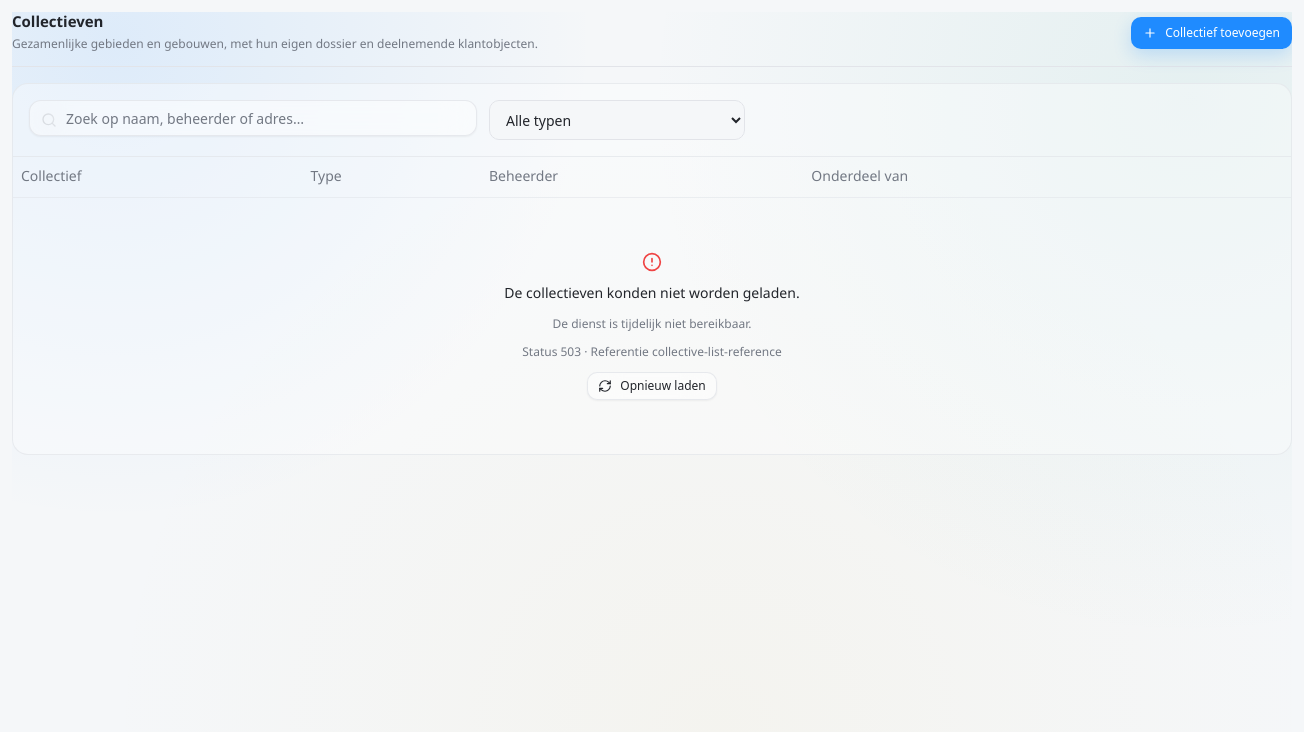
Scenario: collectiefkaart › toont een herkenbare overzichtsfout in de tabel zonder een lege lijst voor te wenden
Expected: the message shows "De collectieven konden niet worden geladen.", [504,284,800,302]
Expected: the message shows "De dienst is tijdelijk niet bereikbaar.", [552,314,751,332]
Click the button "Opnieuw laden".
click(652, 386)  # box [587,372,717,400]
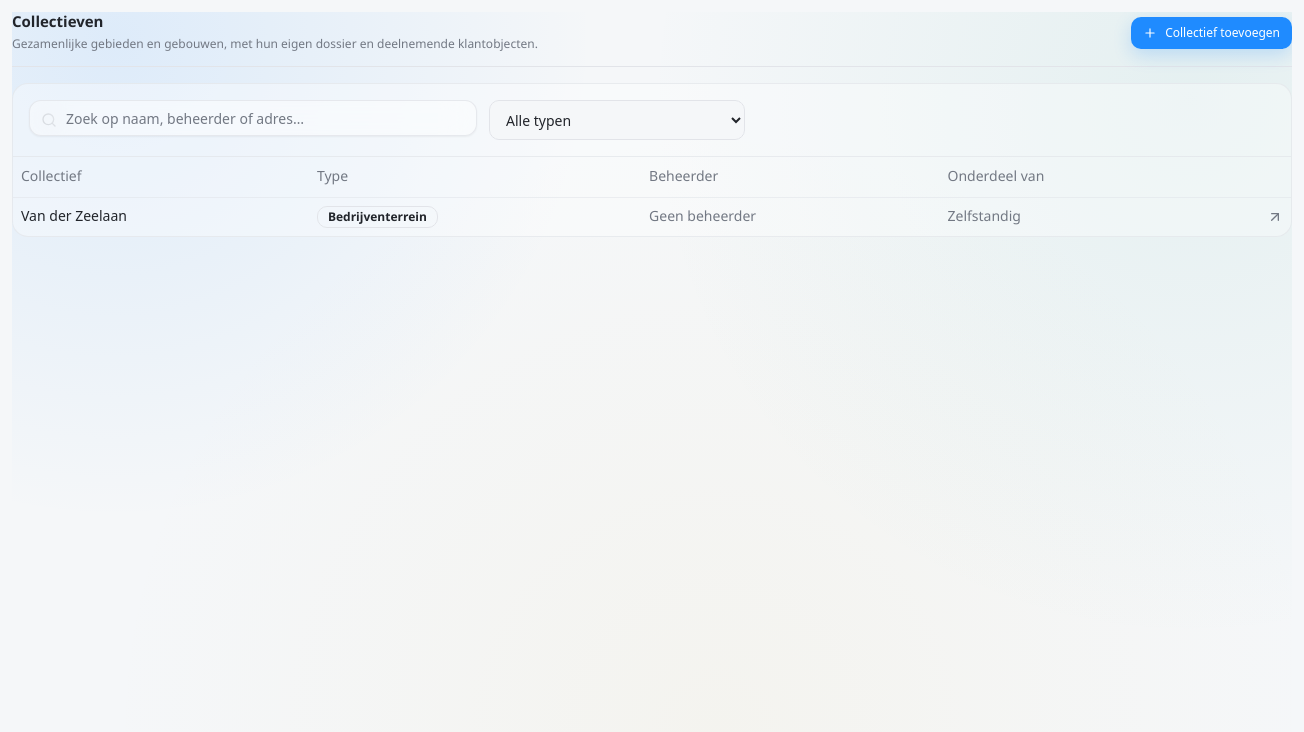
Now the button "Van der Zeelaan" is shown, box [21,206,127,226]
Now the message is gone
